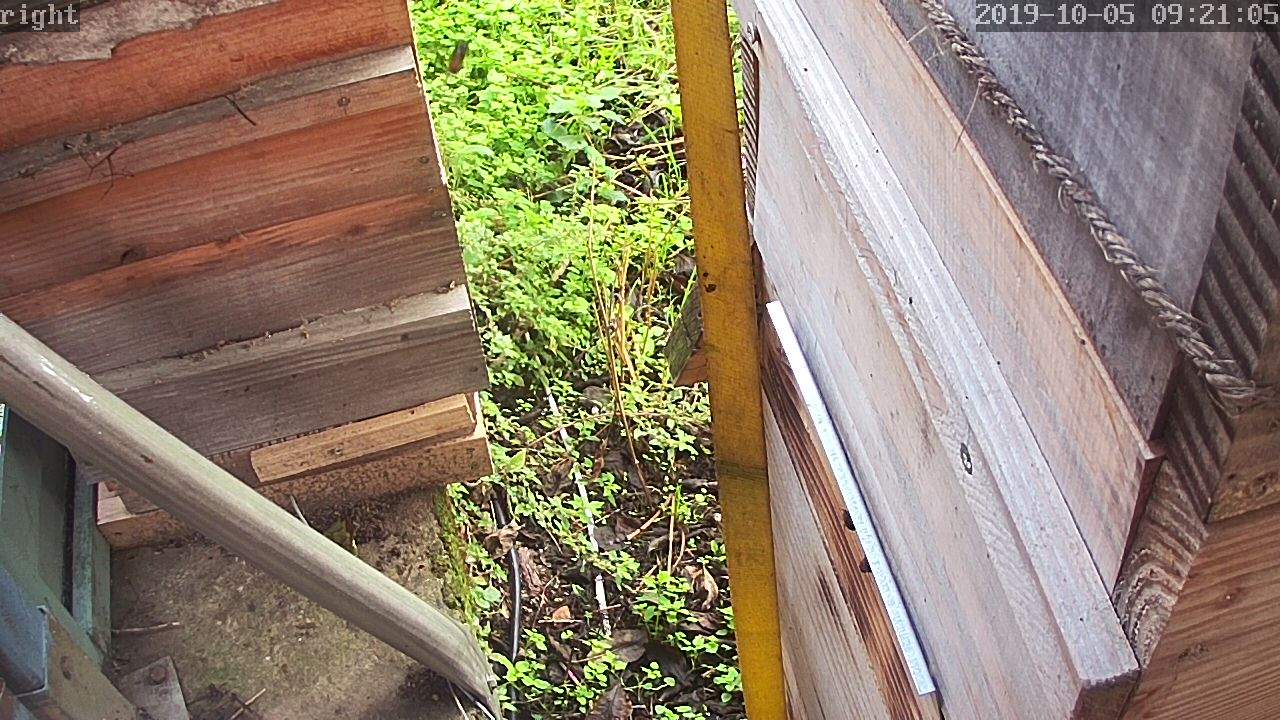hornet: (641, 251, 683, 297), (446, 33, 473, 76)
